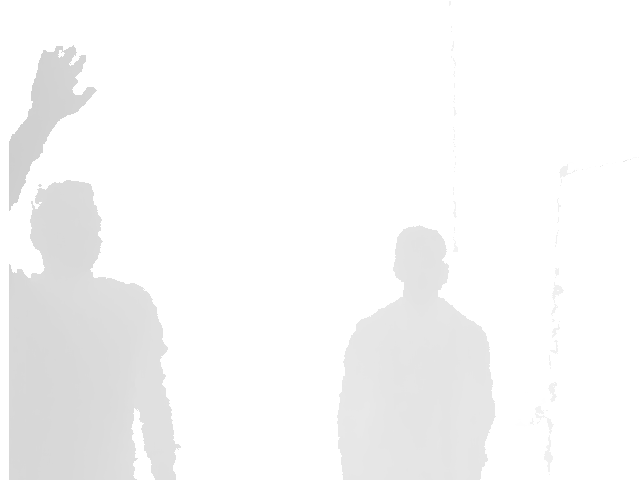hand: (30, 46, 96, 125)
head: (29, 178, 102, 274), (392, 225, 449, 299)
person: (8, 46, 182, 480), (335, 226, 497, 480)
